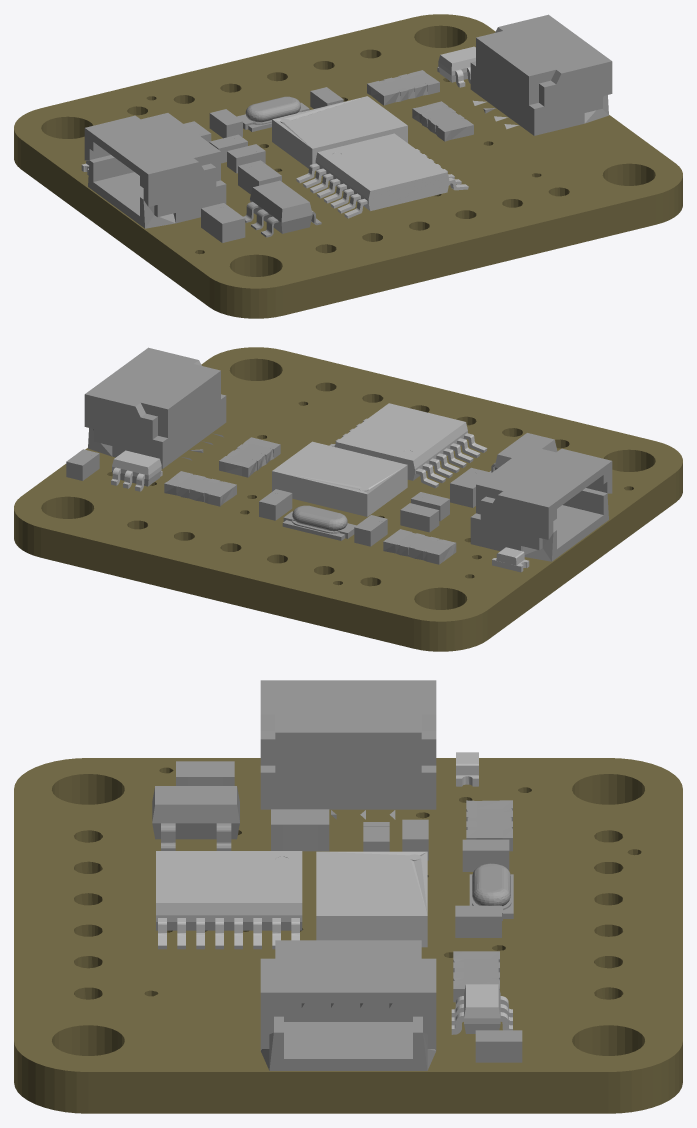
Rendered from adafruit-4754-bno085.glb.
3 views of the same model, one above another, from view 1: azimuth 30°, elevation 25°; view 2: azimuth 150°, elevation 25°; view 3: azimuth 270°, elevation 25° (orthographic). The views are drawn at different scales.
Parts seen in each view (by area): view 1: colour 1, colour 2, colour 4, colour 3; view 2: colour 1, colour 2, colour 4, colour 3; view 3: colour 1, colour 2, colour 4, colour 3.
Boxes of the visible parts, box(x1,y1,x2,y2) form: colour 1: box(14, 14, 682, 318); colour 2: box(84, 14, 612, 242); colour 4: box(81, 96, 468, 218); colour 3: box(437, 46, 475, 87); colour 1: box(14, 347, 682, 651); colour 2: box(66, 347, 612, 564); colour 4: box(272, 403, 529, 572); colour 3: box(111, 450, 162, 491); colour 1: box(14, 758, 682, 1113); colour 2: box(152, 680, 522, 1070); colour 4: box(156, 752, 478, 949); colour 3: box(451, 984, 512, 1034).
Bounding box in the file's own units: 0.0254 × 0.00453 × 0.0229.
